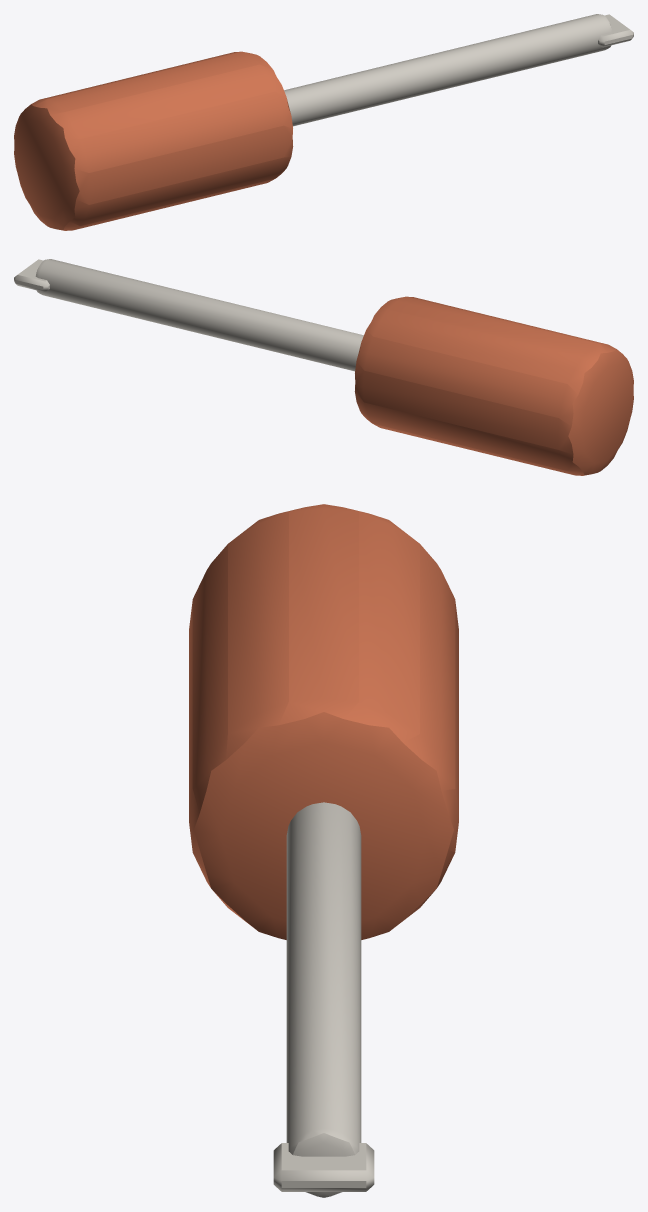
The model's file is screwdriver.glb.
The picture shows the model from 3 angles, top to bottom: view 1: azimuth 30°, elevation 25°; view 2: azimuth 150°, elevation 25°; view 3: azimuth 270°, elevation 25°; orthographic projection. The views are drawn at different scales.
Parts seen in each view (by area): view 1: food_c, steel; view 2: food_c, steel; view 3: food_c, steel.
Boxes of the visible parts, box(x1,y1,x2,y2) form: food_c: box(14, 51, 293, 230); steel: box(284, 14, 633, 126); food_c: box(354, 296, 633, 475); steel: box(14, 259, 363, 371); food_c: box(189, 504, 458, 939); steel: box(273, 802, 374, 1197).
Bounding box in the file's own units: 0.335 × 0.0673 × 0.0673.
